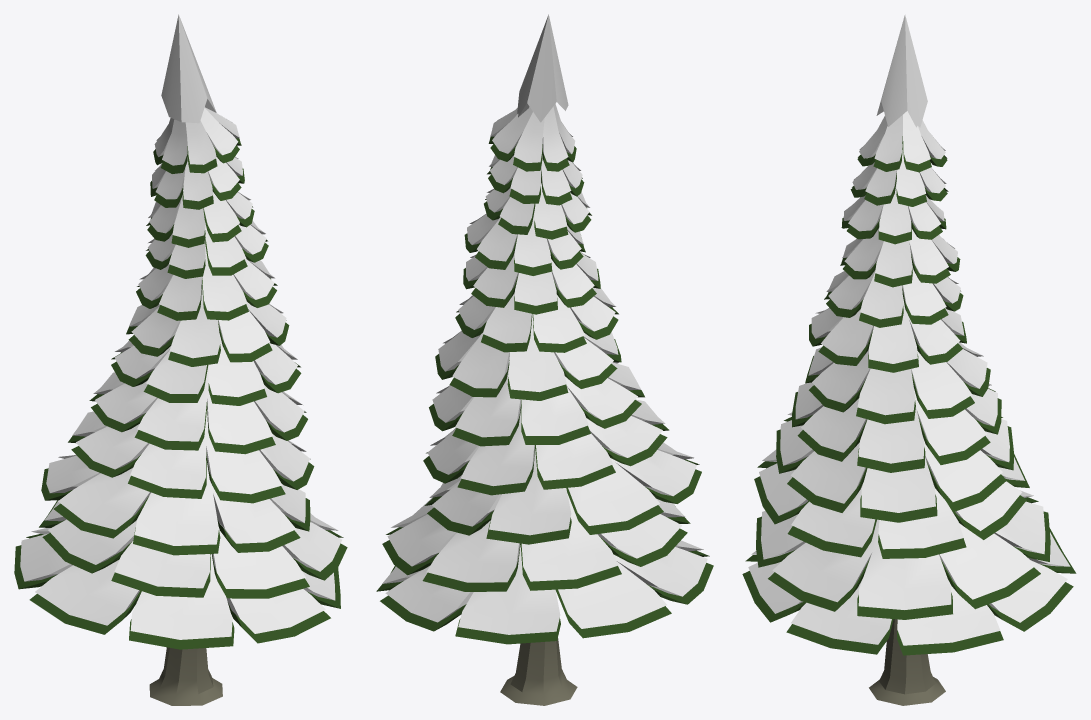
The model's file is blender env assets tree 3.fbx.
3 views of the same model, side by side, from view 1: azimuth 30°, elevation 25°; view 2: azimuth 150°, elevation 25°; view 3: azimuth 270°, elevation 25° (orthographic).
Parts seen in each view (by area): view 1: Cylinder.032; view 2: Cylinder.032; view 3: Cylinder.032.
Part boxes in pixels (x1=…): Cylinder.032: x1=14, y1=14, x2=347, y2=705; Cylinder.032: x1=376, y1=14, x2=713, y2=705; Cylinder.032: x1=742, y1=14, x2=1076, y2=705.
Bounding box in the file's own units: 122 × 271 × 122.
